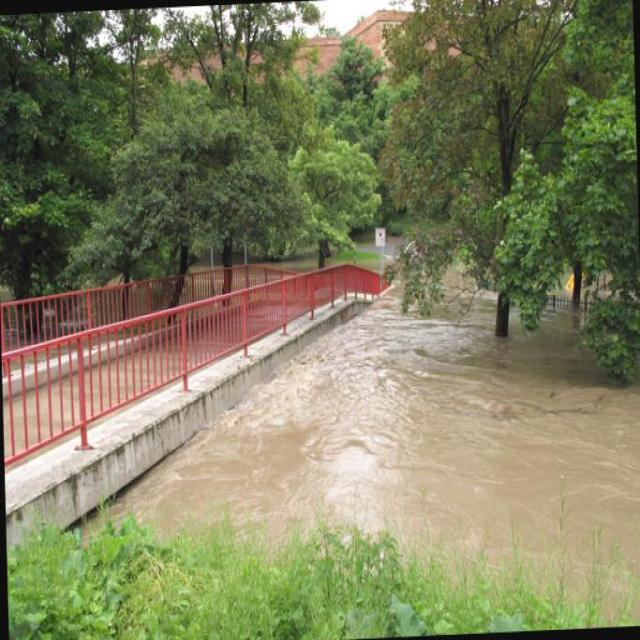flood: (88, 273, 639, 629)
